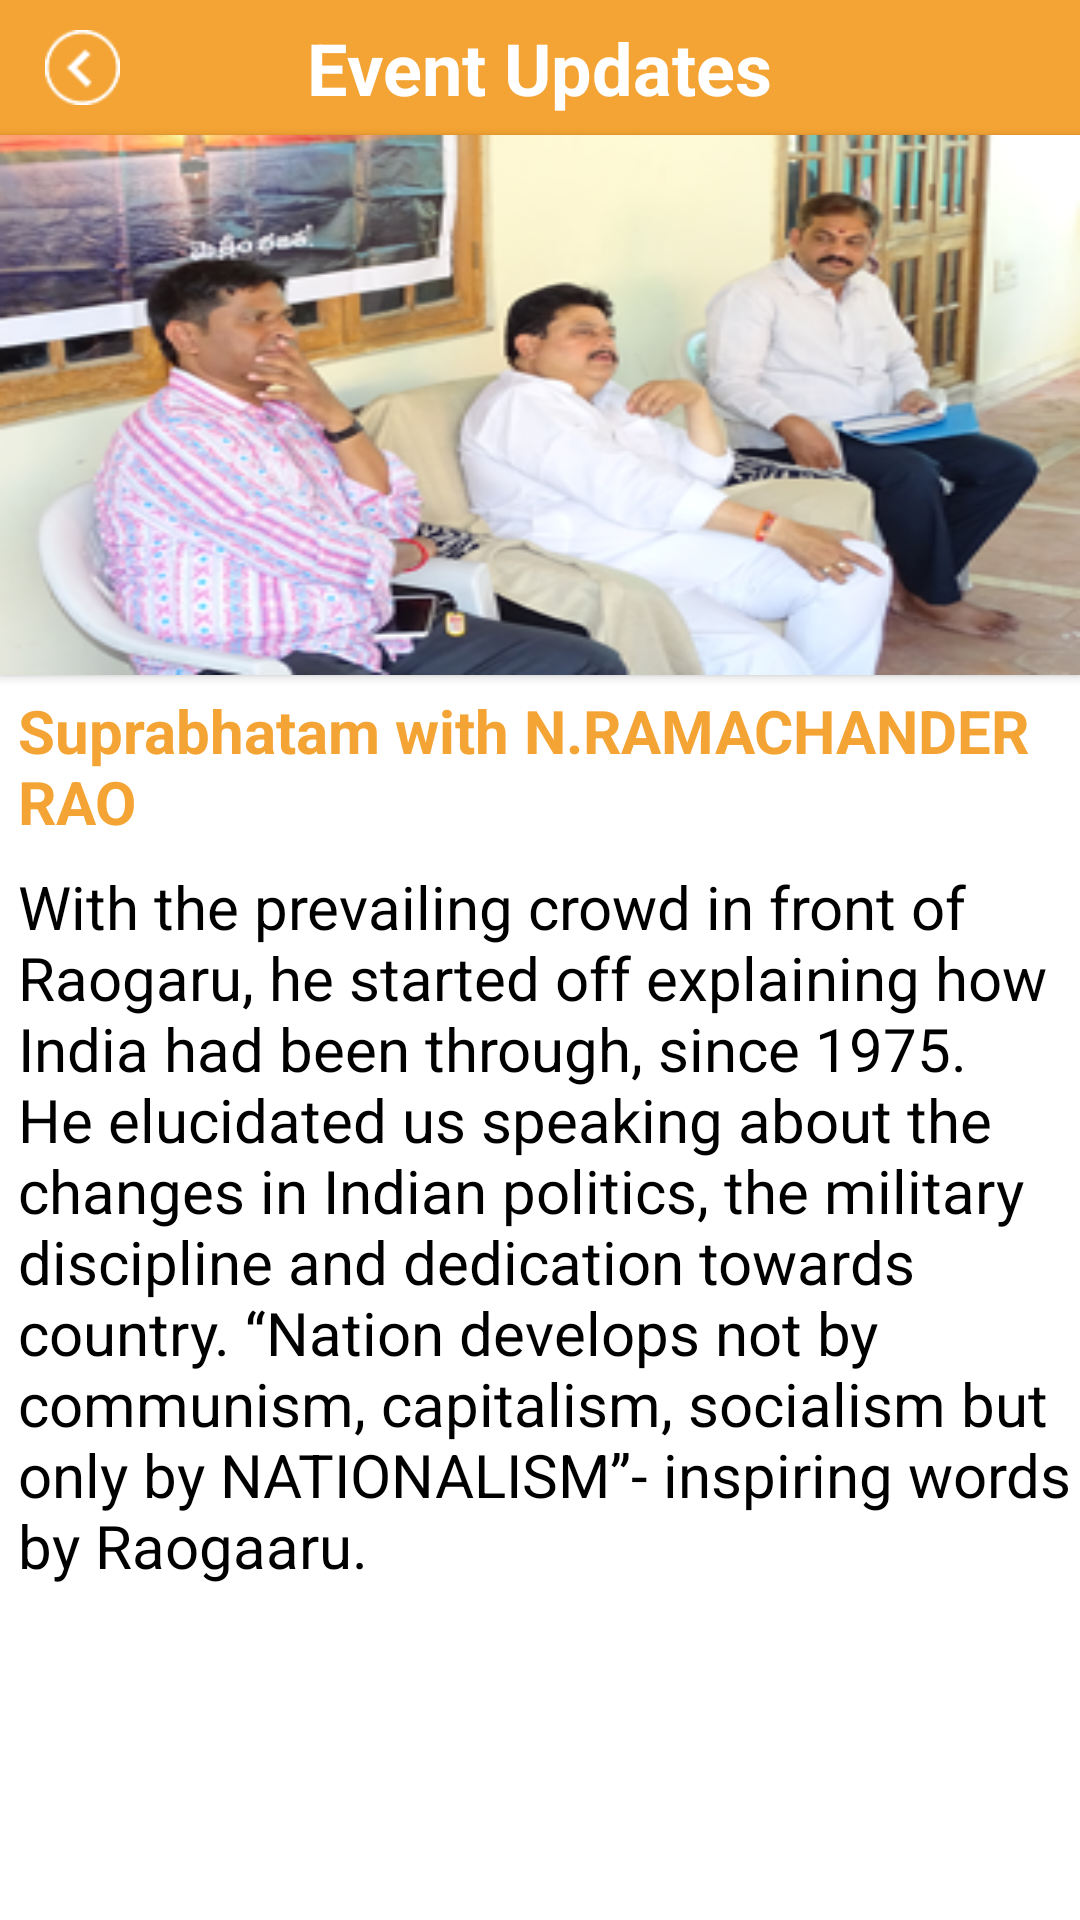

Icons on this 1080 x 1920 Android screen, each with the point to tap as (x,y):
back: (82,67)
